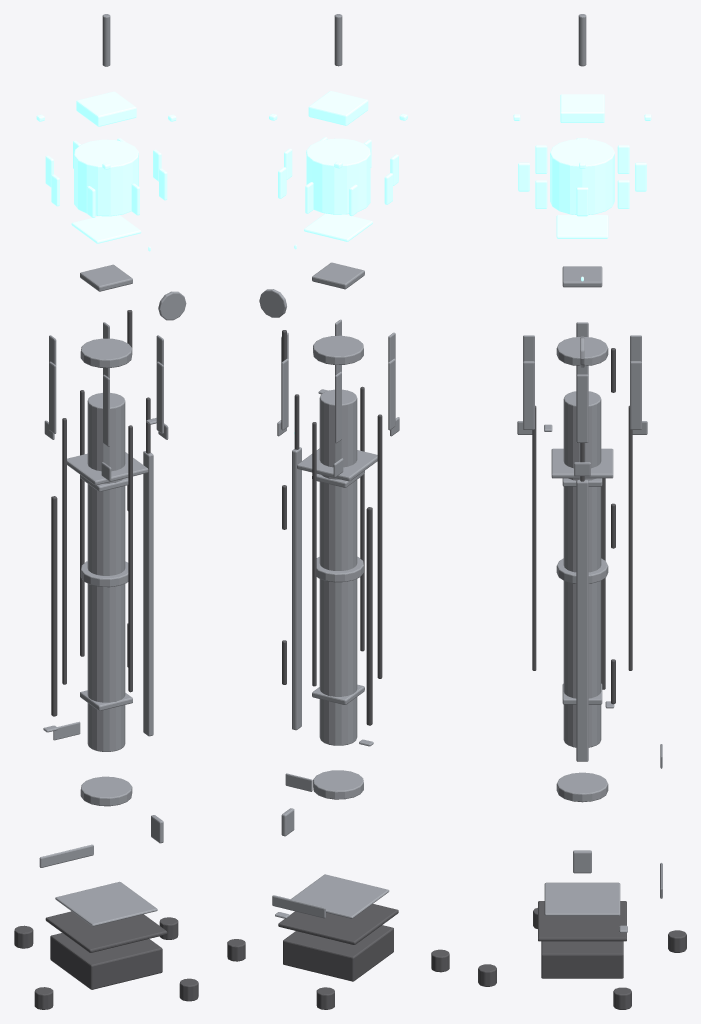
The picture shows the model from 3 angles, left to right: view 1: azimuth 30°, elevation 25°; view 2: azimuth 150°, elevation 25°; view 3: azimuth 270°, elevation 25°; orthographic projection.
Parts seen in each view (by area): view 1: LOD0_BEACON_SHAFT, DET_lantern_body, LOD0_BEACON_PLINTH, DET_service_run, DET_plinth_lip, DET_warning_bar, DET_cable_bundle, DET_lantern_crown, DET_guy_rib_2, DET_guy_rib_3, DET_collar_2, DET_collar_0 (+11 smaller); view 2: LOD0_BEACON_SHAFT, DET_lantern_body, LOD0_BEACON_PLINTH, DET_service_run, DET_plinth_lip, DET_warning_bar, DET_guy_rib_2, DET_cable_bundle, DET_lantern_crown, DET_guy_rib_1, DET_collar_0, DET_collar_2 (+9 smaller); view 3: LOD0_BEACON_SHAFT, DET_lantern_body, DET_service_run, LOD0_BEACON_PLINTH, DET_warning_bar, DET_plinth_lip, DET_lantern_crown, DET_collar_0, DET_glow_ring, DET_guy_rib_1, DET_guy_rib_3, DET_collar_2 (+7 smaller).
Boxes of the visible parts, x1,y1,x2,y2 form: LOD0_BEACON_SHAFT: (87, 393, 125, 751); DET_lantern_body: (74, 139, 138, 216); LOD0_BEACON_PLINTH: (50, 933, 162, 989); DET_service_run: (143, 451, 153, 736); DET_plinth_lip: (45, 911, 167, 952); DET_warning_bar: (55, 881, 157, 926); DET_cable_bundle: (51, 496, 57, 716); DET_lantern_crown: (76, 91, 136, 126); DET_guy_rib_2: (62, 418, 66, 684); DET_guy_rib_3: (128, 425, 132, 692); DET_collar_2: (80, 338, 132, 367); DET_collar_0: (80, 776, 132, 806); LOD0_BEACON_SHAFT: (319, 389, 357, 745); DET_lantern_body: (306, 138, 370, 214); LOD0_BEACON_PLINTH: (283, 925, 393, 981); DET_service_run: (292, 447, 301, 730); DET_plinth_lip: (278, 904, 398, 944); DET_warning_bar: (291, 874, 389, 918); DET_guy_rib_2: (377, 414, 382, 678); DET_cable_bundle: (366, 507, 372, 725); DET_lantern_crown: (308, 91, 368, 125); DET_guy_rib_1: (312, 422, 316, 686); DET_collar_0: (313, 770, 363, 799); DET_collar_2: (313, 335, 363, 364); LOD0_BEACON_SHAFT: (563, 391, 601, 747); DET_lantern_body: (550, 139, 614, 214); DET_service_run: (576, 480, 588, 761); LOD0_BEACON_PLINTH: (541, 941, 623, 978); DET_warning_bar: (544, 882, 620, 915); DET_plinth_lip: (538, 901, 626, 941); DET_lantern_crown: (560, 94, 604, 122); DET_collar_0: (556, 772, 608, 802); DET_glow_ring: (556, 215, 608, 238); DET_guy_rib_1: (628, 405, 632, 670); DET_guy_rib_3: (532, 405, 536, 670); DET_collar_2: (556, 336, 608, 365).
Size of the model in its own units: 6.06 by 30.55 by 6.08.
